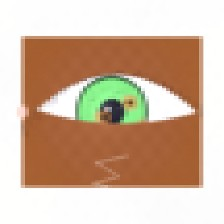foreign_body_visible: (114, 90, 145, 115)
